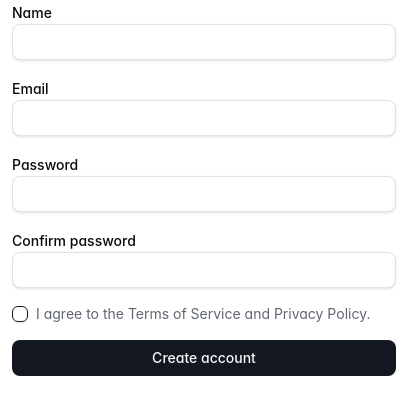
SignupForm › shows a mismatch error when passwords don't match
Type "Sarah Chen" into the field labelled "Name" at (204, 42), box left=12, top=24, right=396, bottom=60
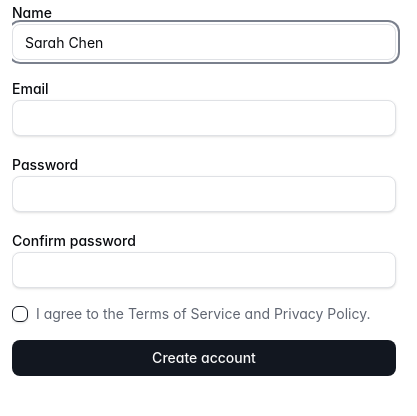
Type "sarah@acme.io" into the field labelled "Email" at (204, 118), box left=12, top=100, right=396, bottom=136
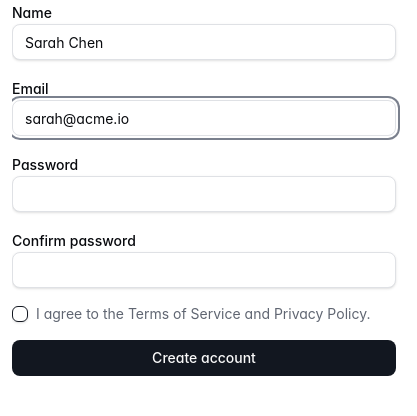
Type "password123" into the password field labelled "Password" at (204, 194), box left=12, top=176, right=396, bottom=212
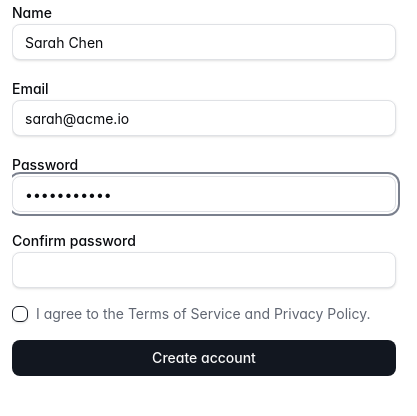
Type "different123" into the password field labelled "Confirm password" at (204, 270), box left=12, top=252, right=396, bottom=288
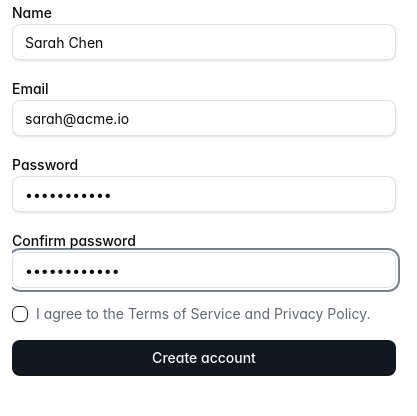
Click the checkbox named "agree to the Terms" at (20, 314), box left=12, top=306, right=28, bottom=322
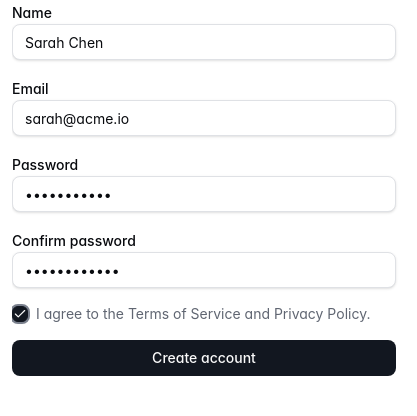
Click the button "Create account" at (204, 358), box left=12, top=340, right=396, bottom=376
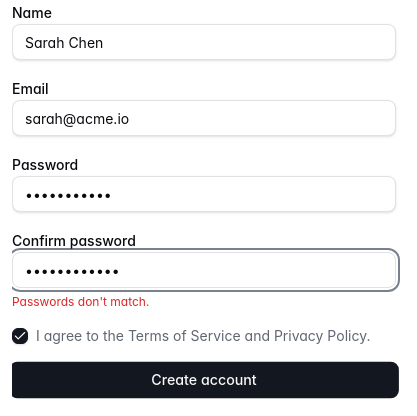
Result: the text "Passwords don't match." is shown at left=12, top=294, right=149, bottom=309
